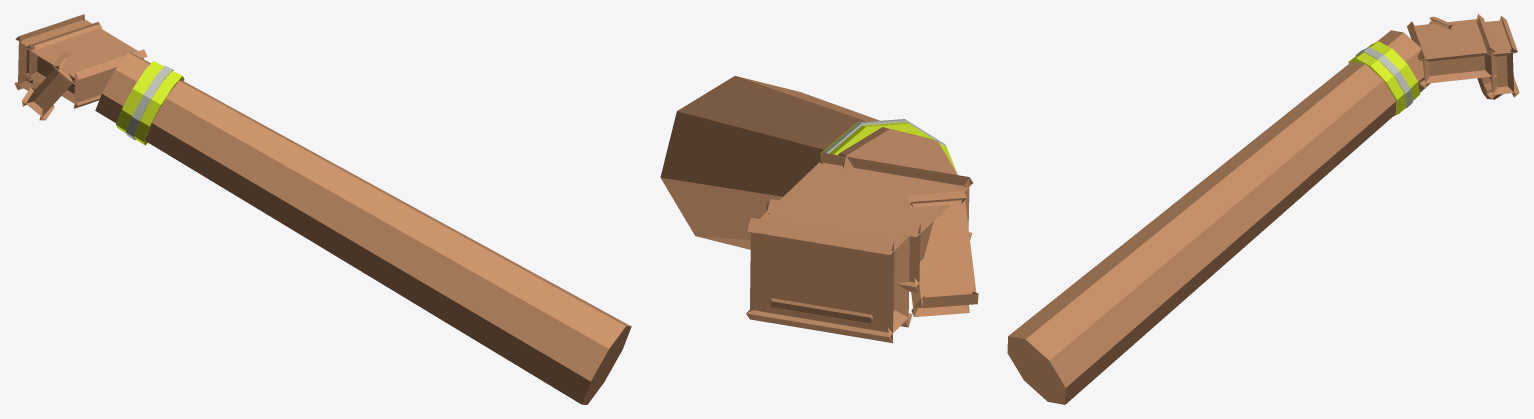
The model's file is lwf_fp_arm_right_door_v1.glb.
The picture shows the model from 3 angles, left to right: view 1: azimuth 30°, elevation 25°; view 2: azimuth 150°, elevation 25°; view 3: azimuth 270°, elevation 25°; orthographic projection. The views are drawn at different scales.
Parts seen in each view (by area): view 1: LWF_FPArm_Right_Door; view 2: LWF_FPArm_Right_Door; view 3: LWF_FPArm_Right_Door.
Boxes of the visible parts, left/top/right/bottom form: LWF_FPArm_Right_Door: left=14, top=14, right=631, bottom=404; LWF_FPArm_Right_Door: left=660, top=76, right=978, bottom=343; LWF_FPArm_Right_Door: left=1007, top=14, right=1519, bottom=404.
Size of the model in its own units: 0.4575 by 0.3098 by 0.5726.
